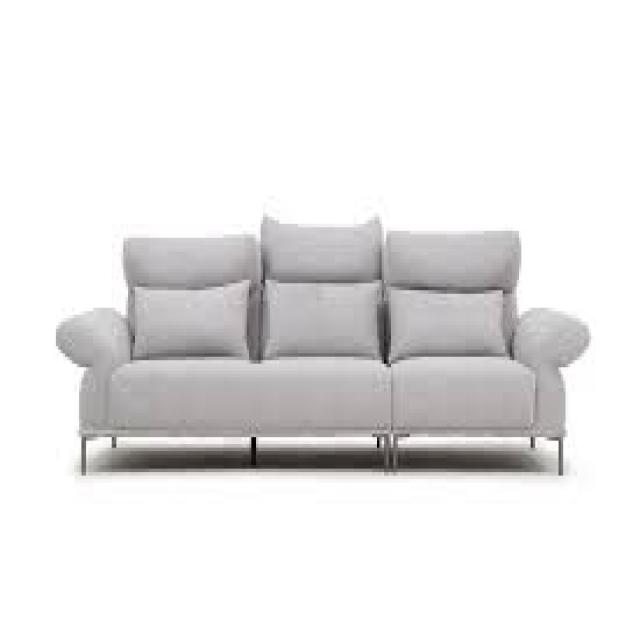Sofa: (40, 194, 606, 494)
